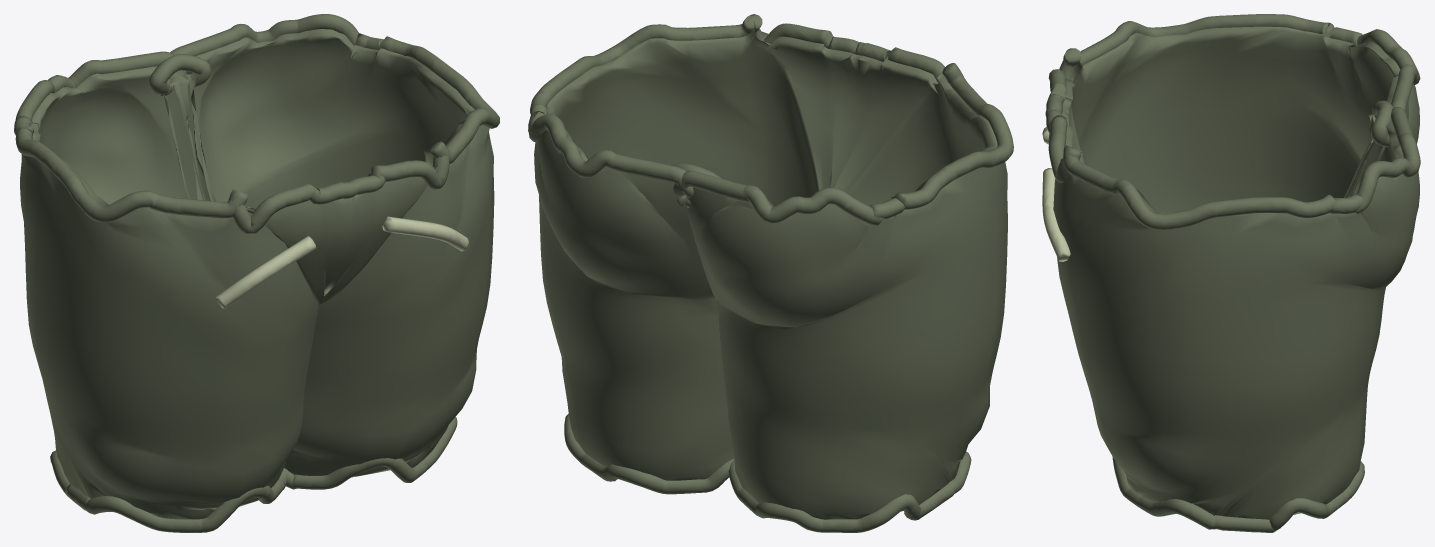
Rendered from 2HT-masculino.glb.
3 views of the same model, side by side, from view 1: azimuth 30°, elevation 25°; view 2: azimuth 150°, elevation 25°; view 3: azimuth 270°, elevation 25° (orthographic). The views are drawn at different scales.
Visible parts, largest first — view 1: fitted-shell, bound-edge (×3), pocket--1, pocket-1; view 2: fitted-shell, bound-edge (×3); view 3: fitted-shell, bound-edge (×2), pocket-1.
Part boxes in pixels (x1,y1,x2,y2): fitted-shell: (20, 29, 494, 519); bound-edge (×3): (14, 14, 499, 532); pocket--1: (215, 236, 316, 309); pocket-1: (382, 216, 469, 251); fitted-shell: (534, 22, 1007, 519); bound-edge (×3): (528, 14, 1013, 532); fitted-shell: (1048, 26, 1419, 519); bound-edge (×2): (1045, 14, 1420, 532); pocket-1: (1042, 168, 1070, 261).
Bounding box in the file's own units: 0.0375 × 0.0321 × 0.0306.
